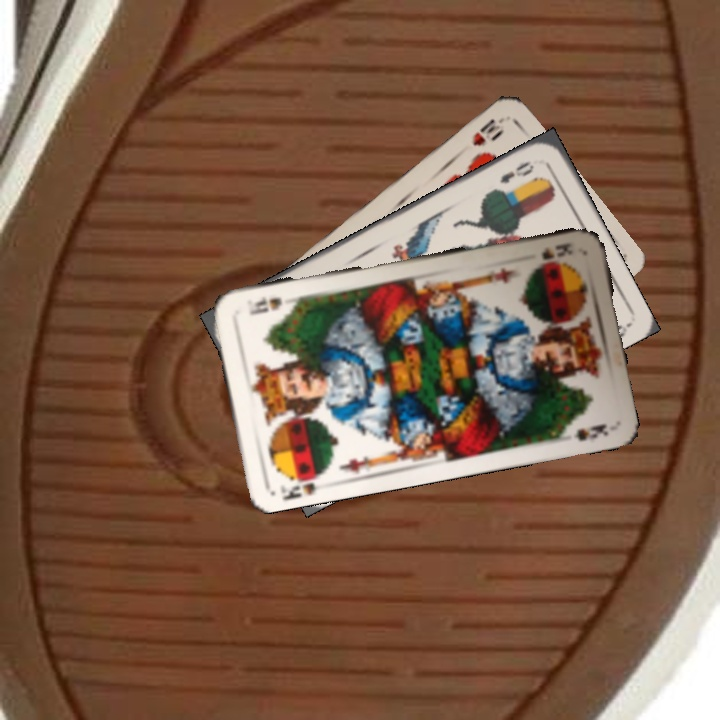EO: (495, 157, 537, 186)
H10: (468, 113, 508, 149)
SK: (276, 467, 326, 502), (538, 239, 576, 263)
